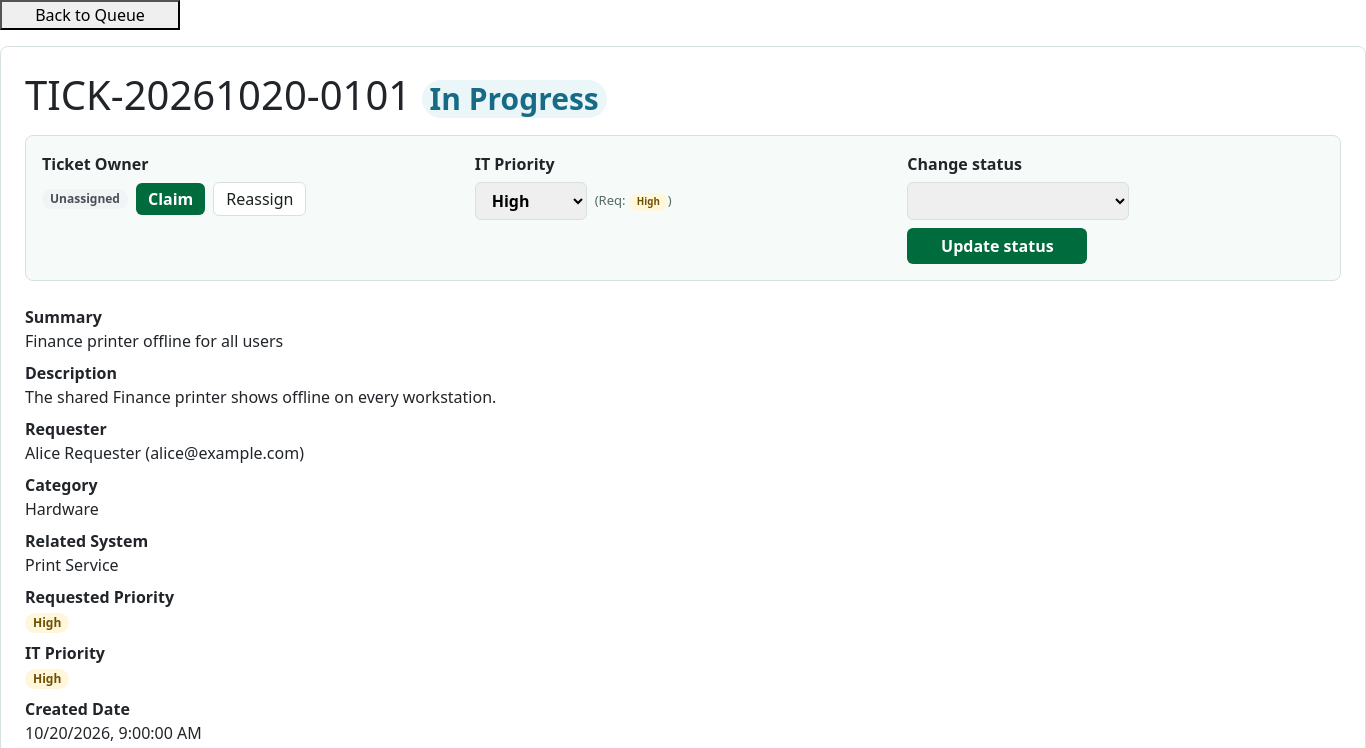
Test: Ticket workflow UI (UI-11 … UI-17) › UI-13: Resolved with no actions disables Update status and explains why (aria-describedby)
The width and height of the screenshot is (1366, 748).
Expected: the heading "TICK-20261020-0101 In Progress" is shown, x1=25 y1=67 x2=607 y2=122
Expected: the button "Update status" is enabled, x1=907 y1=228 x2=1087 y2=264
Step 1. Select "Resolved" in the dropdown labelled "Change status" → (1018, 201), box x1=907 y1=182 x2=1129 y2=220
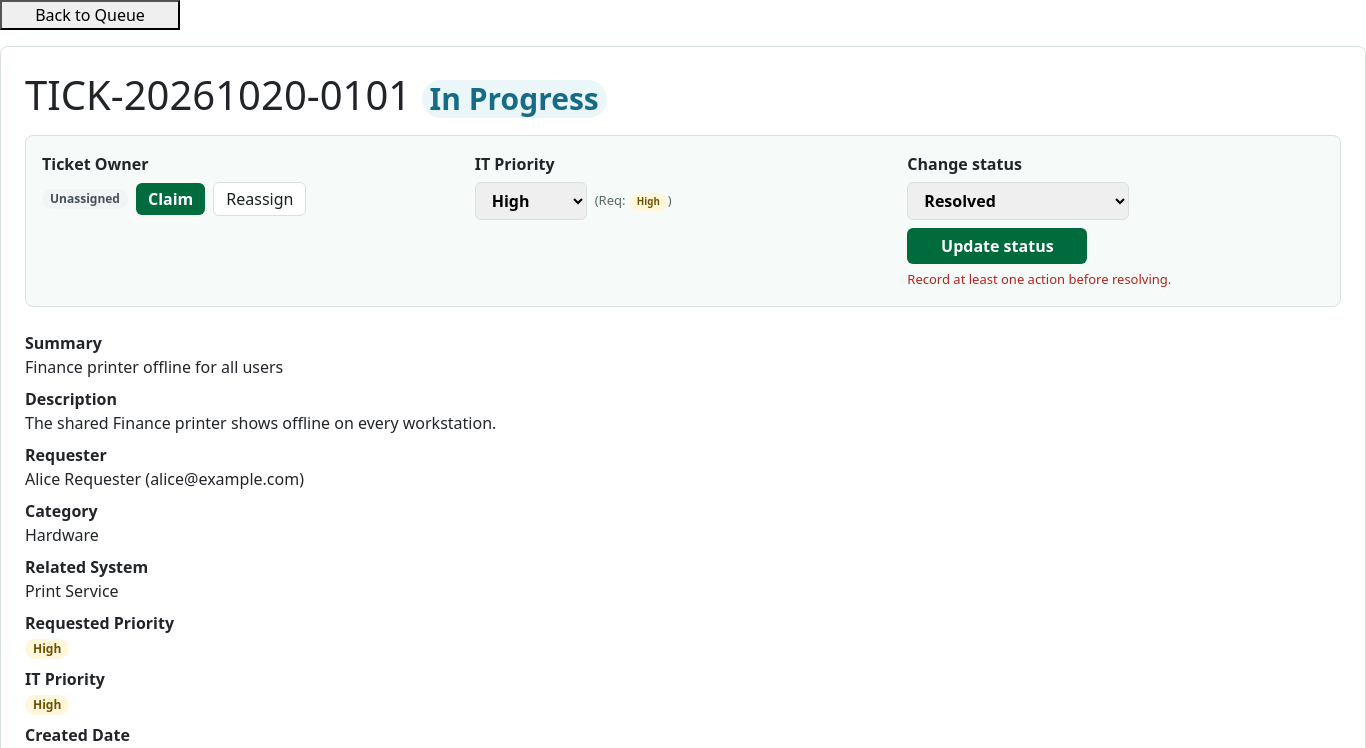
Expected: the button "Update status" is disabled, x1=907 y1=228 x2=1087 y2=264
Expected: the text "Record at least one action before resolving." is shown, x1=907 y1=270 x2=1171 y2=288
